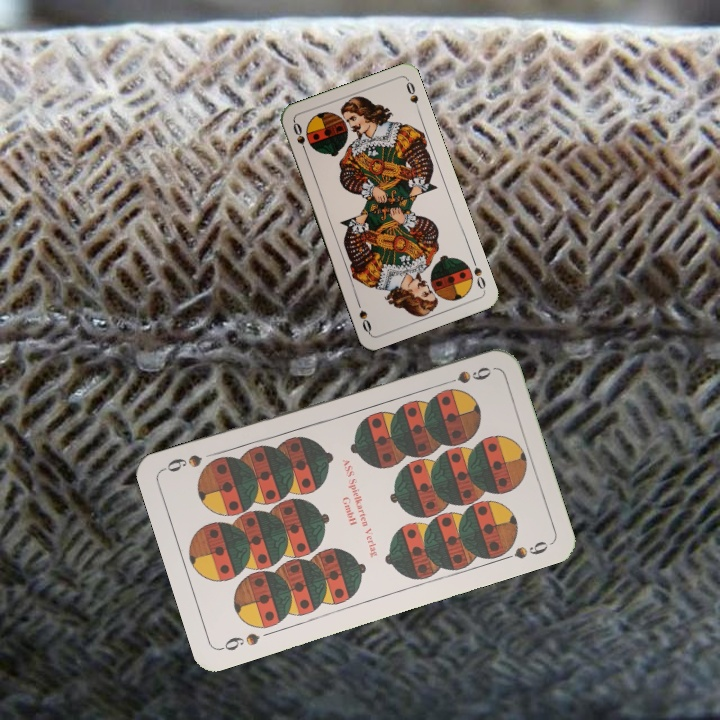S9: (436, 362, 494, 389), (216, 629, 263, 654)
SO: (289, 118, 310, 157), (468, 254, 488, 292)
